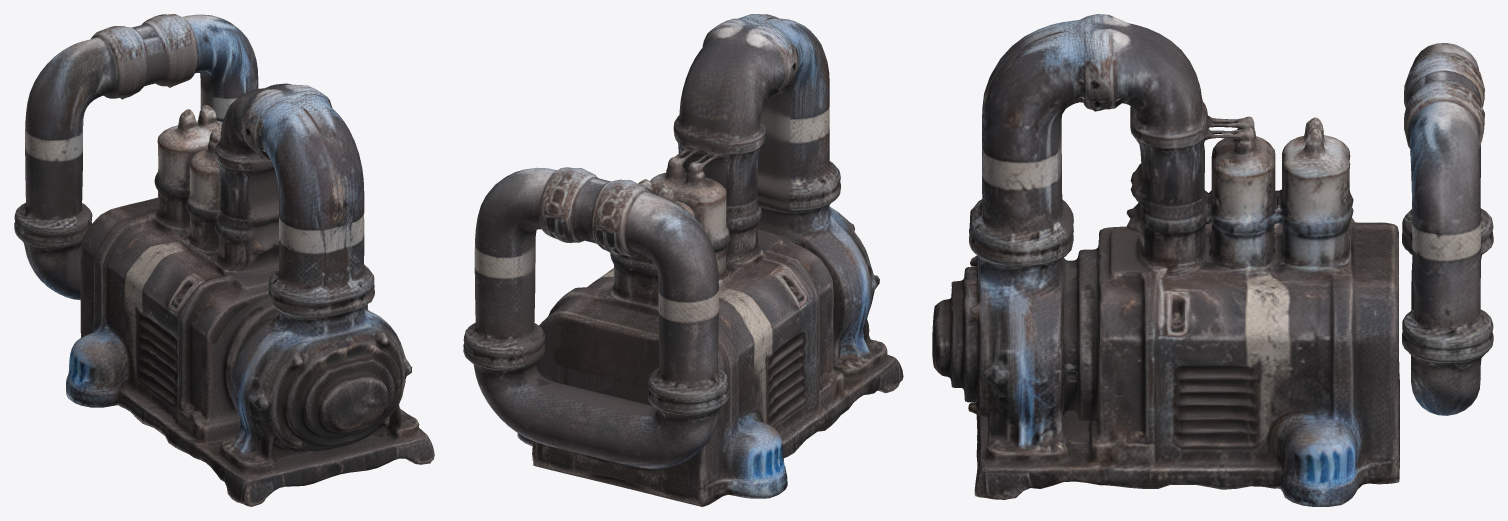
The model's file is SteamThing_base_basic_pbr.glb.
The picture shows the model from 3 angles, left to right: view 1: azimuth 30°, elevation 25°; view 2: azimuth 150°, elevation 25°; view 3: azimuth 270°, elevation 25°; orthographic projection. The views are drawn at different scales.
Parts seen in each view (by area): view 1: model; view 2: model; view 3: model.
Boxes of the visible parts, x1=… form: model: x1=14, y1=14, x2=434, y2=506; model: x1=463, y1=14, x2=903, y2=506; model: x1=932, y1=14, x2=1493, y2=506.
Bounding box in the file's own units: 1.14 × 1.57 × 1.9.
1 material, 1 textured.
